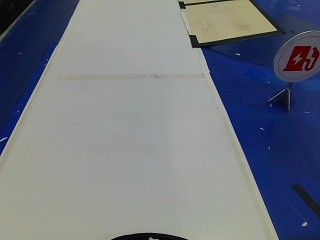battery: (273, 33, 318, 85)
